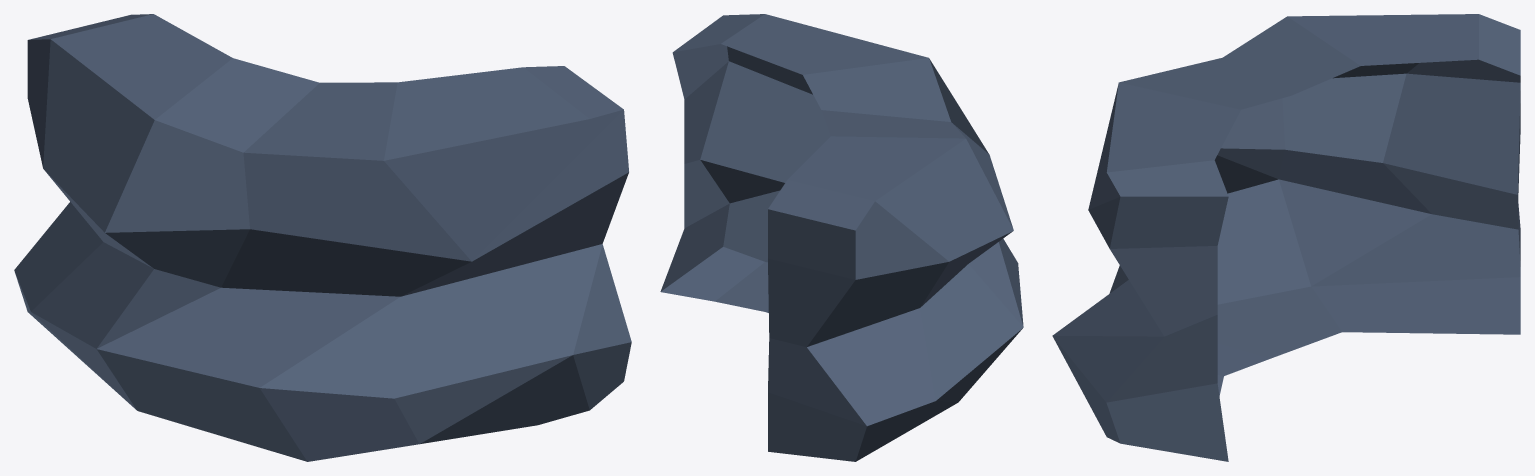
The model's file is castle_wall_stone_outer_corner.fbx.
3 views of the same model, side by side, from view 1: azimuth 30°, elevation 25°; view 2: azimuth 150°, elevation 25°; view 3: azimuth 270°, elevation 25° (orthographic). The views are drawn at different scales.
Parts seen in each view (by area): view 1: castle_wall_stone_outer_corner; view 2: castle_wall_stone_outer_corner; view 3: castle_wall_stone_outer_corner.
Part boxes in pixels (<box>): castle_wall_stone_outer_corner: <box>14,14,631,461</box>; castle_wall_stone_outer_corner: <box>660,14,1023,461</box>; castle_wall_stone_outer_corner: <box>1052,14,1520,461</box>.
Bounding box in the file's own units: 3.07 × 1.95 × 3.02.
